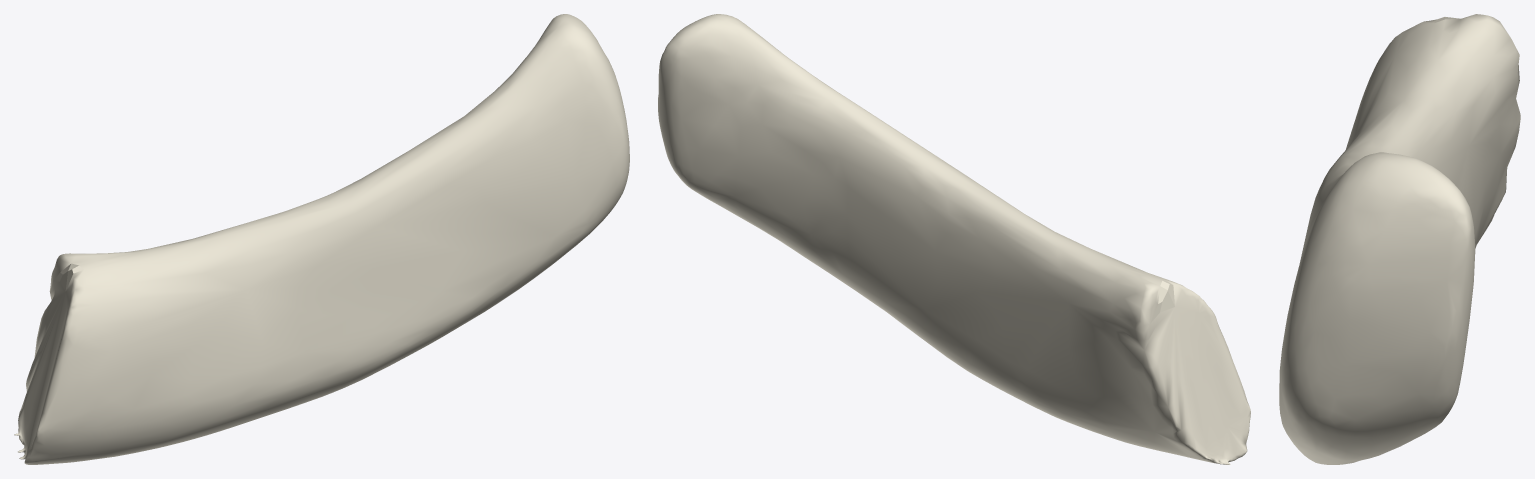
3 renders of one model, left to right at view 1: azimuth 30°, elevation 25°; view 2: azimuth 150°, elevation 25°; view 3: azimuth 270°, elevation 25°, orthographic. The views are drawn at different scales.
Visible parts, largest first — view 1: ZA_b7aeaa2e72648c51; view 2: ZA_b7aeaa2e72648c51; view 3: ZA_b7aeaa2e72648c51.
Part boxes in pixels (bbox=[...]): ZA_b7aeaa2e72648c51: bbox=[14, 14, 629, 464]; ZA_b7aeaa2e72648c51: bbox=[658, 14, 1250, 464]; ZA_b7aeaa2e72648c51: bbox=[1279, 14, 1520, 464].
Bounding box in the file's own units: 0.0544 × 0.029 × 0.0126.
